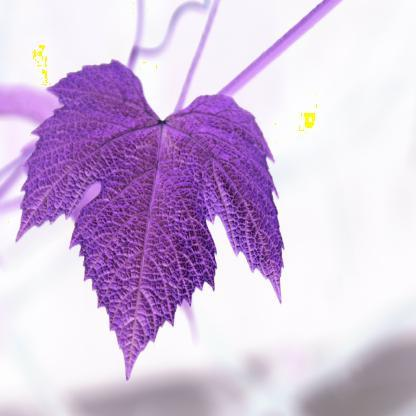grape leaf black rot: (11, 62, 296, 383)
